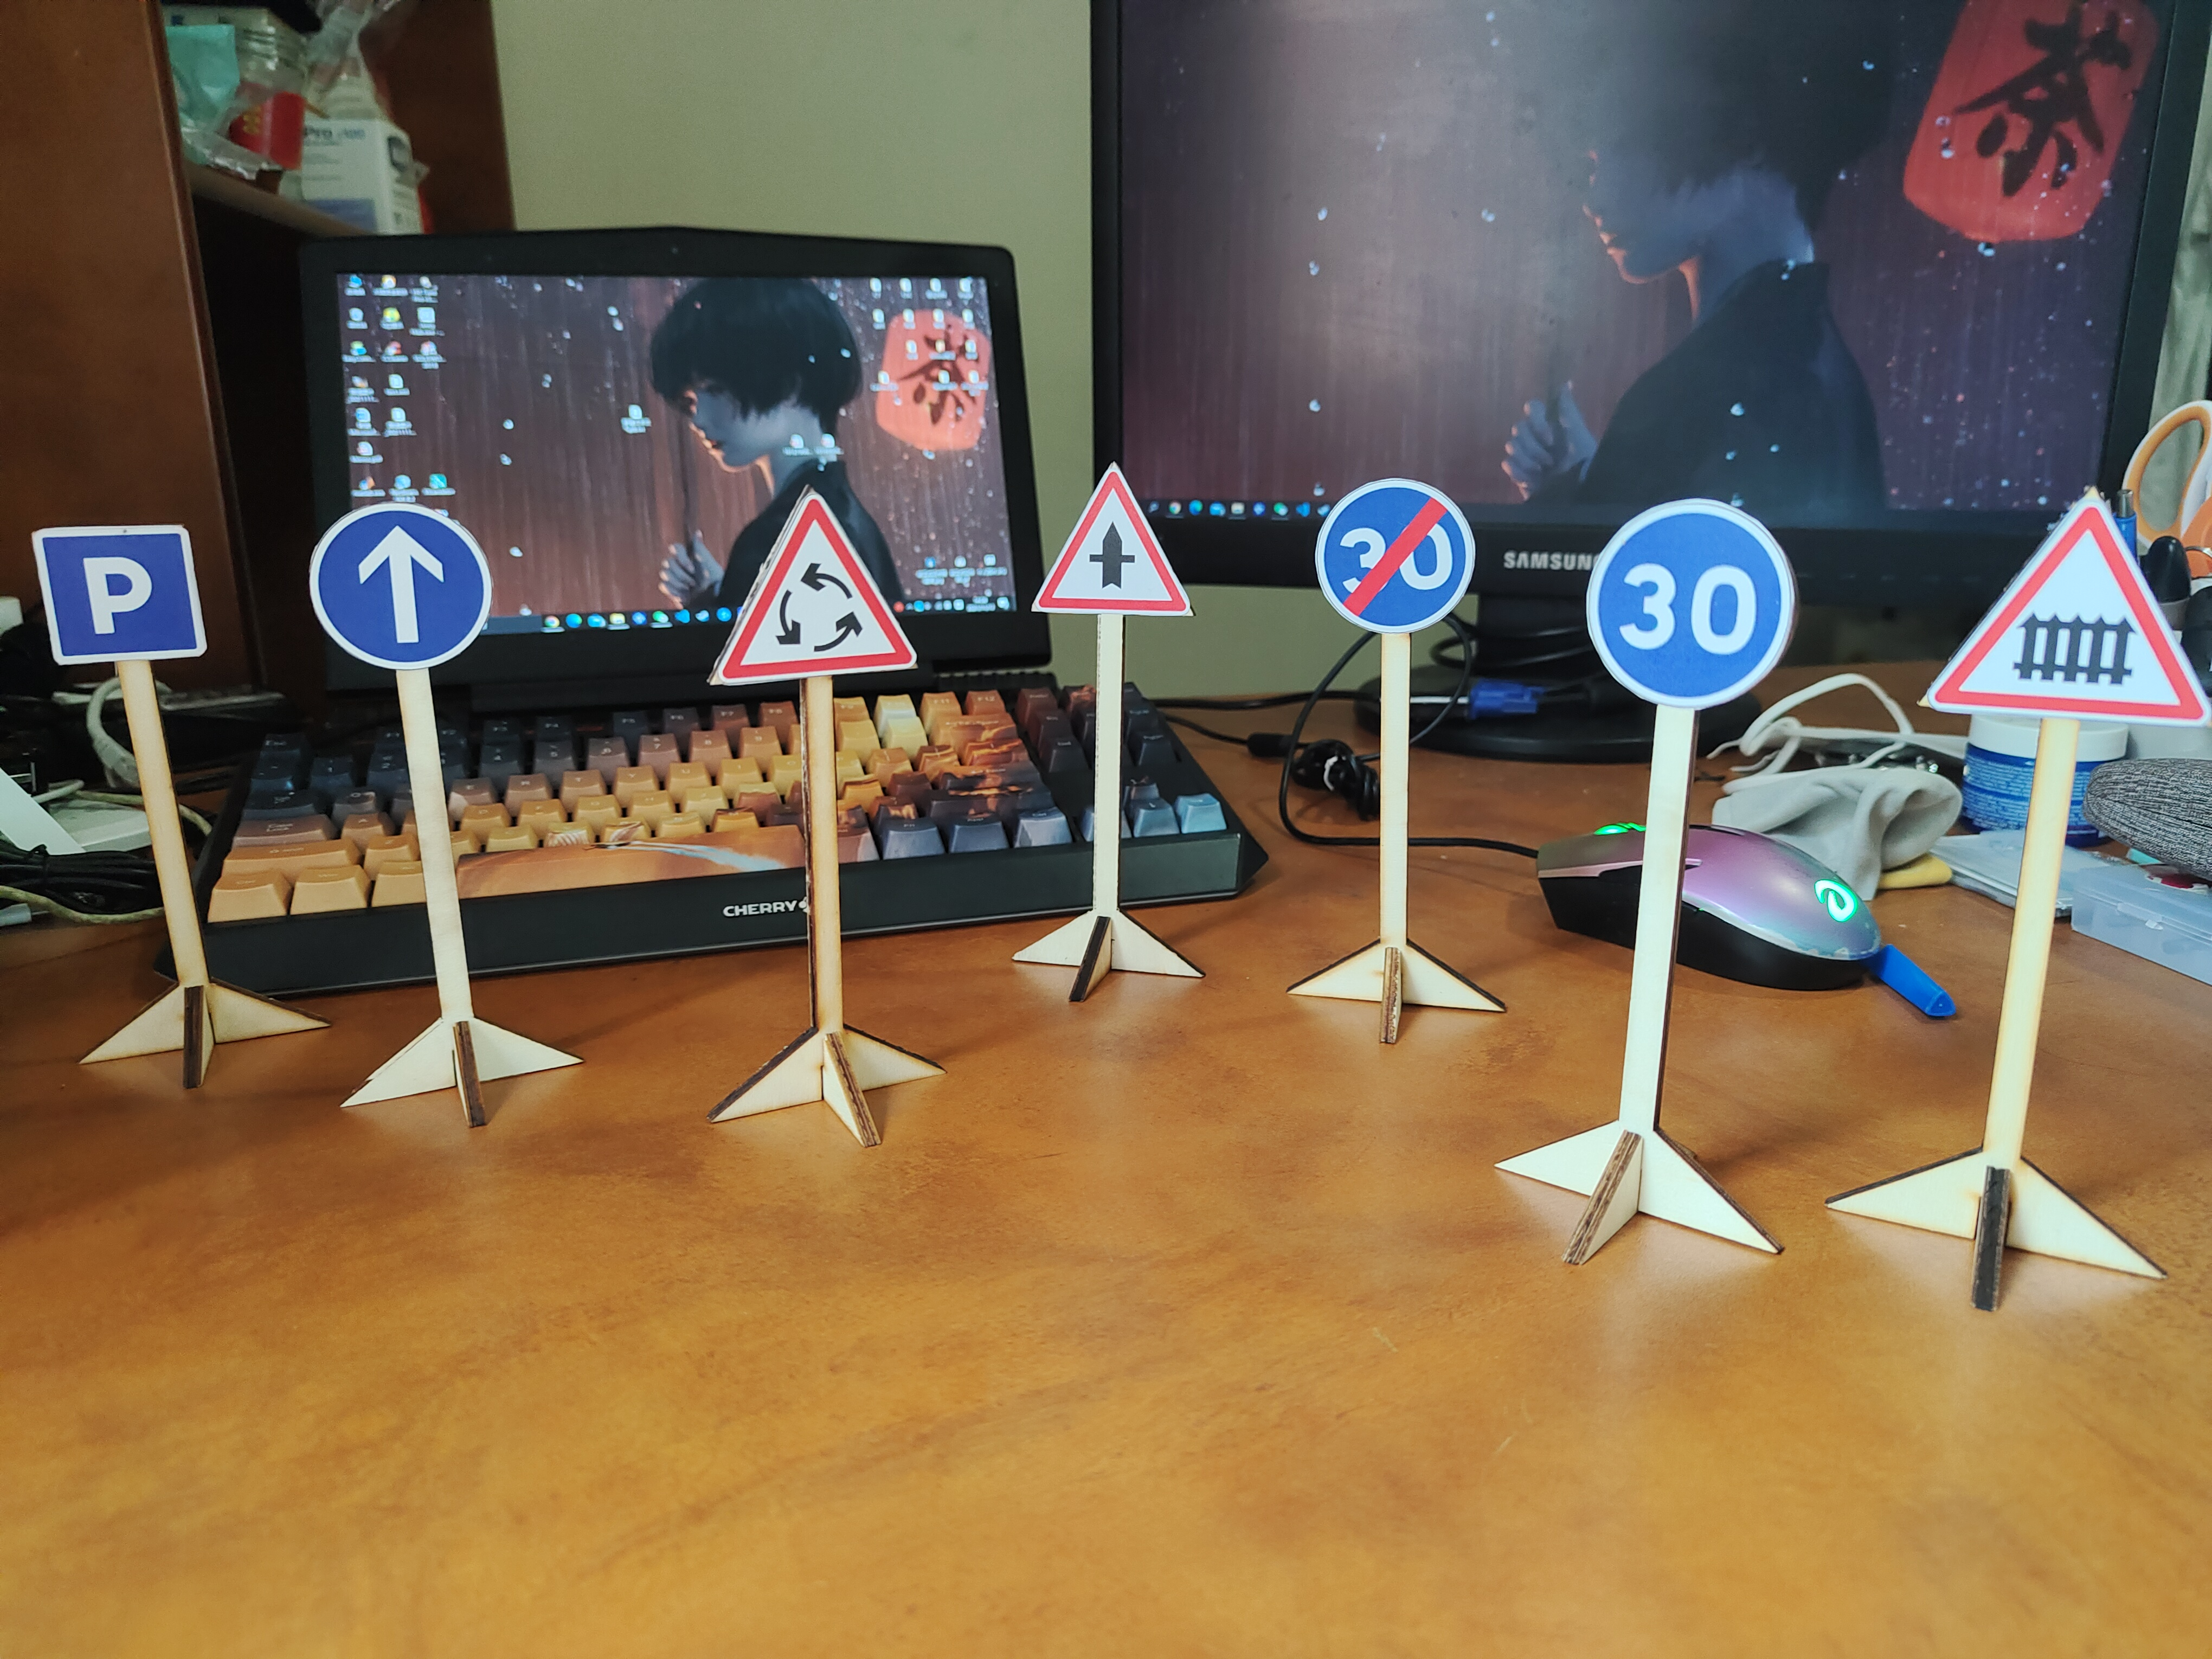P: (33, 516, 207, 655)
ban: (1318, 476, 1475, 638)
cycle: (711, 500, 921, 678)
first: (1033, 467, 1191, 613)
straight: (308, 504, 488, 662)
thirty: (1585, 495, 1794, 704)
train: (1930, 490, 2202, 725)
